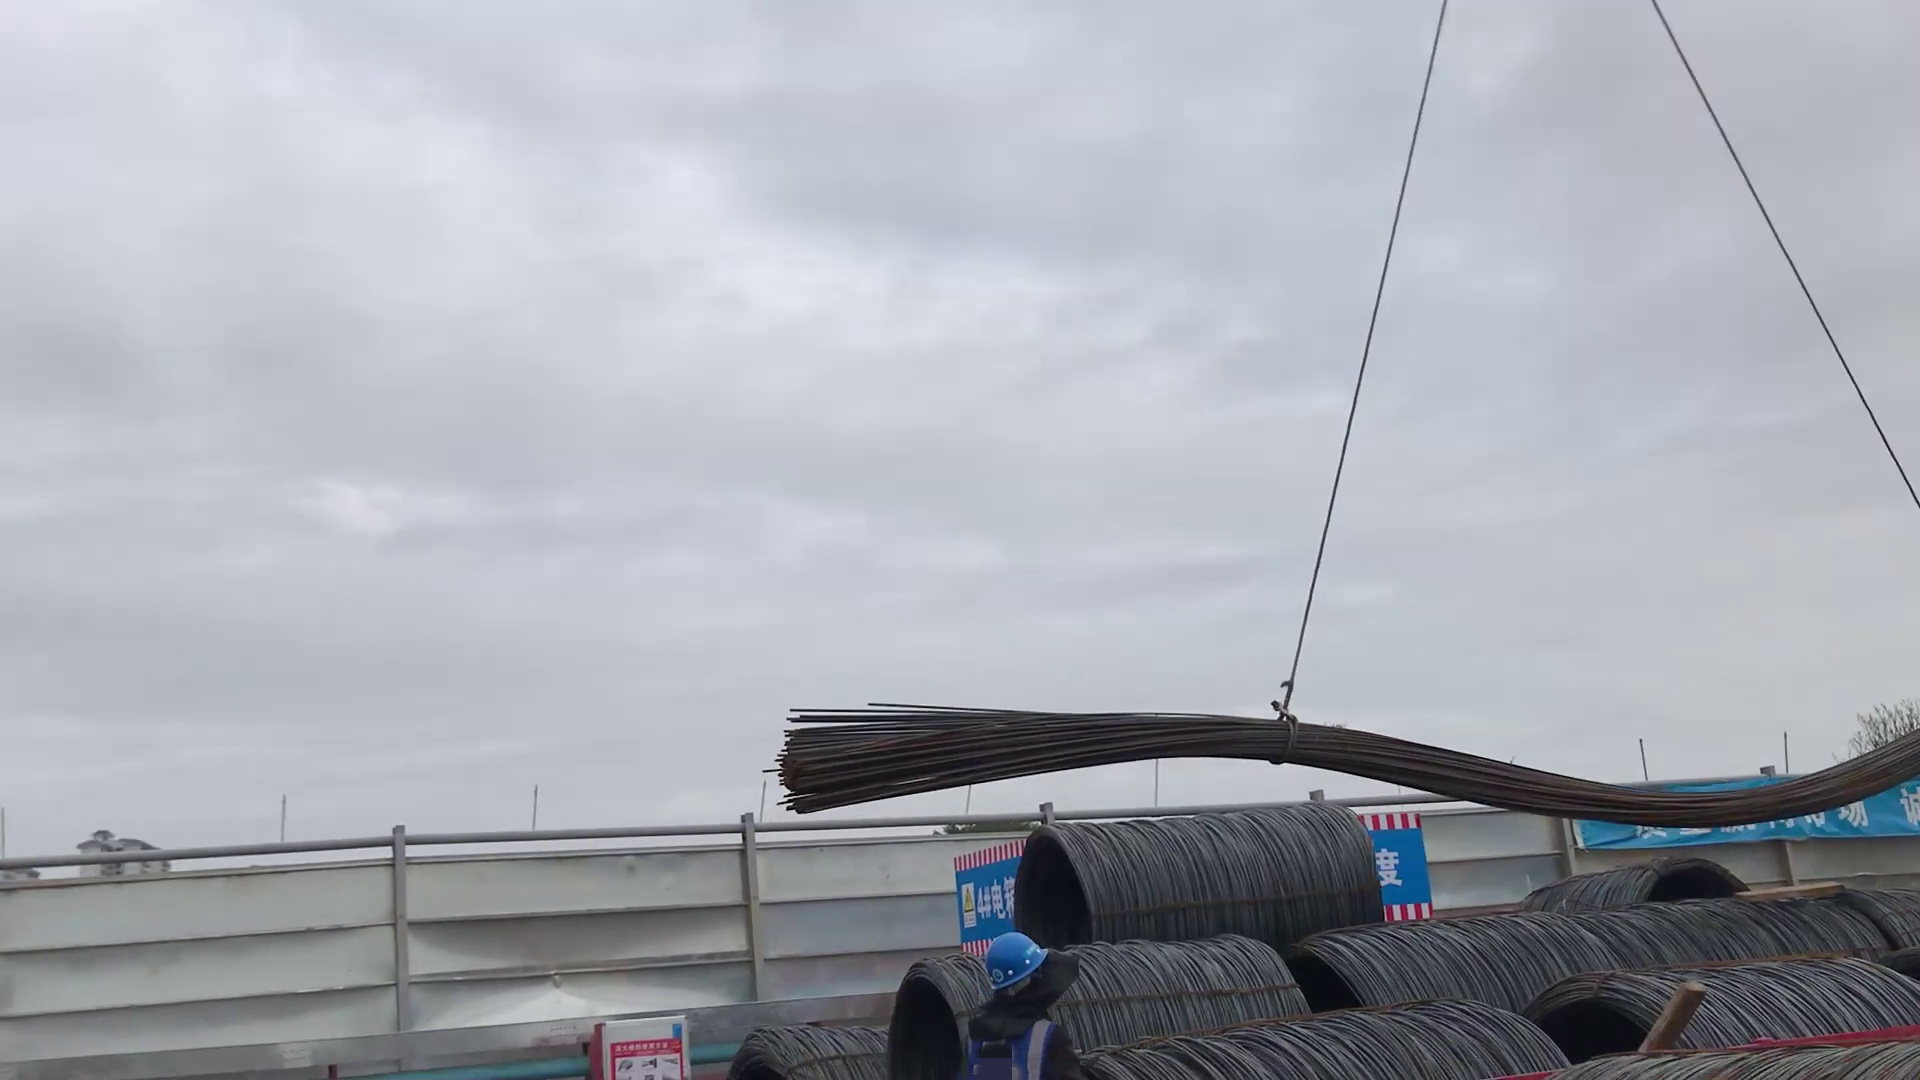helmet: (985, 930, 1049, 992)
person: (970, 931, 1085, 1080)
rebar: (781, 691, 1920, 827)
slogan: (1578, 770, 1920, 854)
vest: (971, 1016, 1056, 1080)
